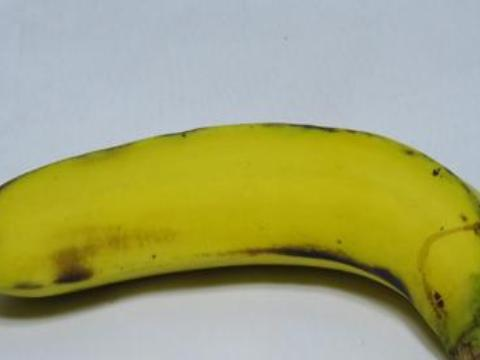freshripe: (0, 109, 479, 359)
